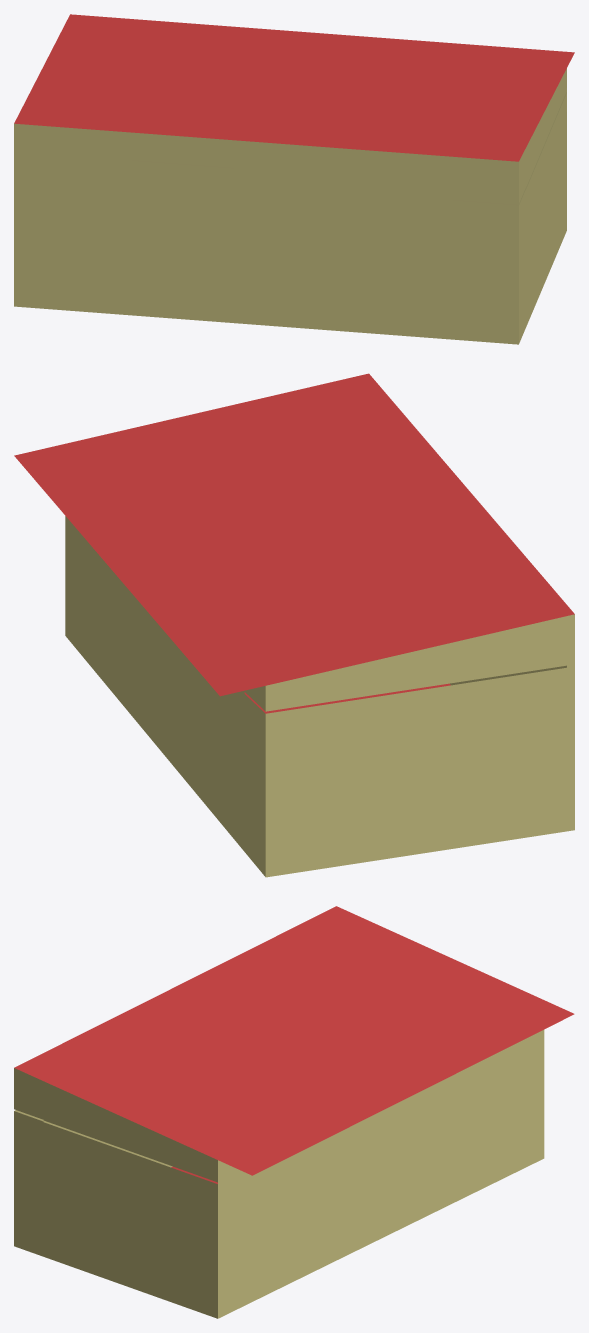
3 renders of one model, top to bottom at view 1: azimuth 30°, elevation 25°; view 2: azimuth 150°, elevation 25°; view 3: azimuth 270°, elevation 25°, orthographic. The views are drawn at different scales.
Bounding box in the file's own units: 30.61 × 29.42 × 10.33.
